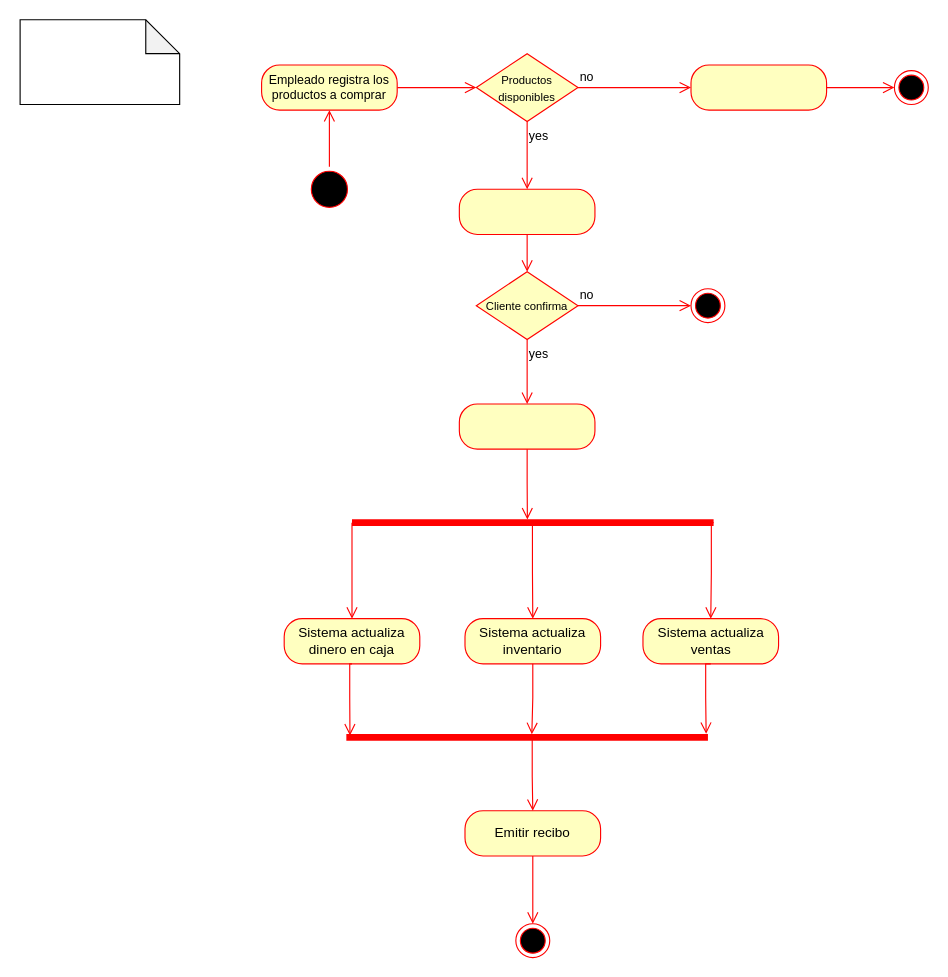
Image size: 948x977. Some labels were removed from this diagram. The box of each missing label's shape, as (x1, y1, x2, y2) in pixels:
Cliente paga compra: (458, 403, 595, 449)
Cliente solicita comprar productos: (19, 19, 180, 105)
Empleado confirma con el cliente la compra: (458, 188, 595, 234)
Notificar falta de stock a empleado: (690, 64, 827, 110)
